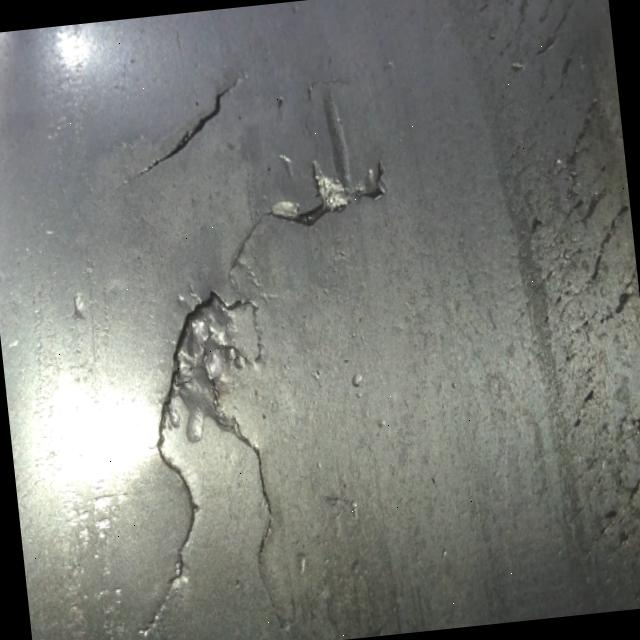Contact_Fatigue_Cracks: (111, 285, 292, 640), (110, 78, 259, 193), (267, 158, 391, 231), (564, 410, 640, 516), (583, 206, 638, 286), (590, 462, 640, 543), (533, 1, 593, 57), (564, 104, 607, 166), (595, 274, 640, 326), (548, 59, 579, 103), (569, 386, 601, 428), (534, 1, 573, 29), (632, 550, 640, 598), (529, 215, 546, 236)
